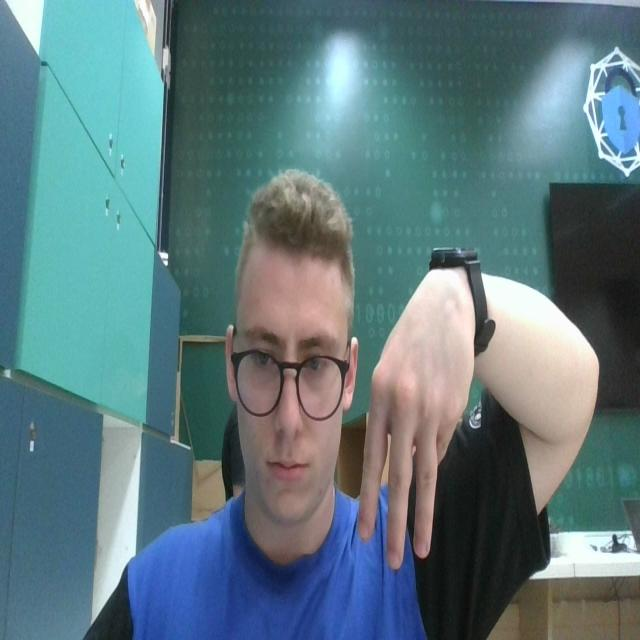M: (358, 258, 473, 576)
